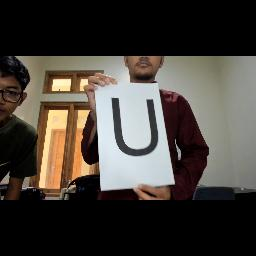u: (109, 94, 163, 158)
